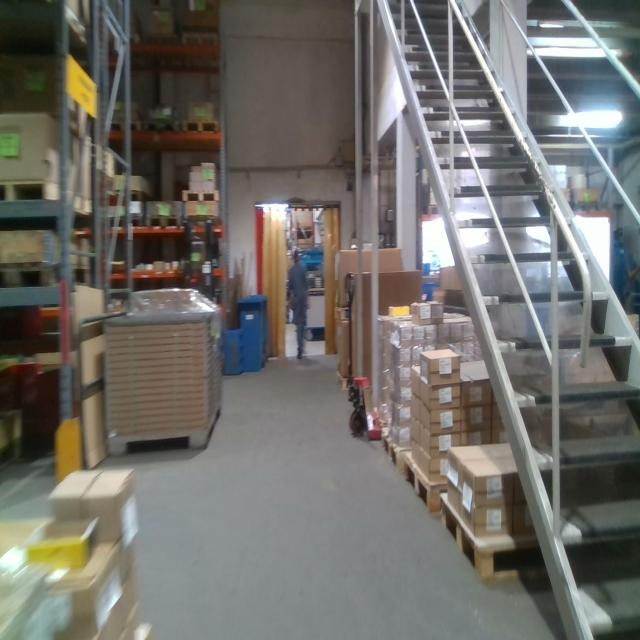pallet: (440, 482, 633, 576), (1, 257, 94, 301), (0, 173, 94, 208), (400, 442, 437, 526), (98, 210, 145, 235), (380, 422, 401, 475), (107, 187, 158, 206), (181, 117, 223, 140), (180, 183, 223, 204), (104, 117, 143, 140), (147, 213, 183, 232), (145, 117, 180, 134)
pallet_truck: (340, 271, 387, 443), (177, 214, 221, 300)
stillage: (103, 301, 225, 461)
